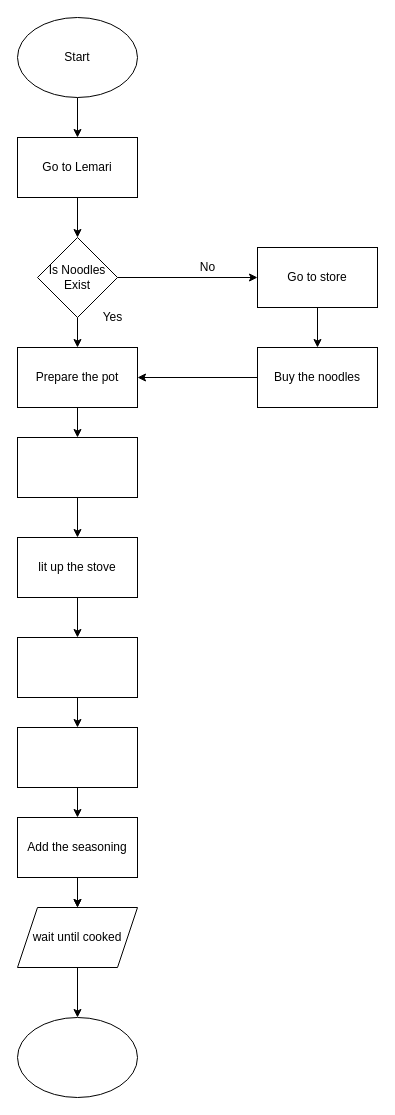
Image size: 395x1115. Some labels were removed from this diagram. Each missing label, with the centre of its shape:
"End" goes at (77,1057).
"Pour the water" goes at (77,467).
"put the noodles into the boiled water" goes at (77,757).
"wait until water boiling" goes at (77,667).
